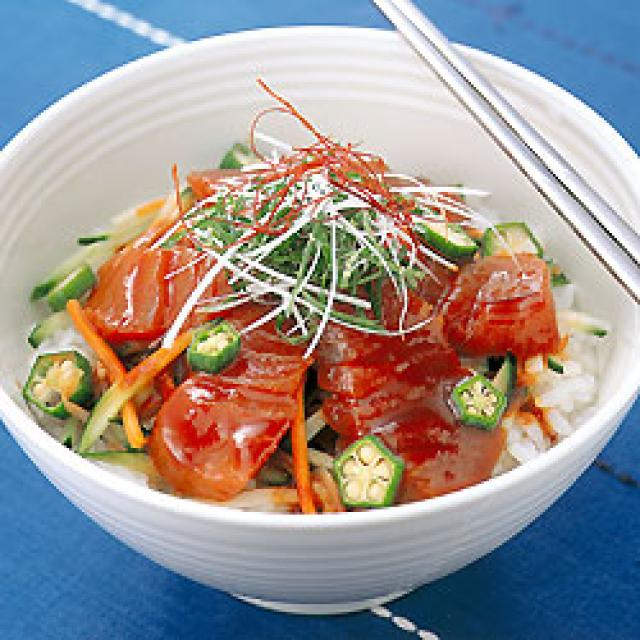刺身生食: (0, 28, 640, 604)
